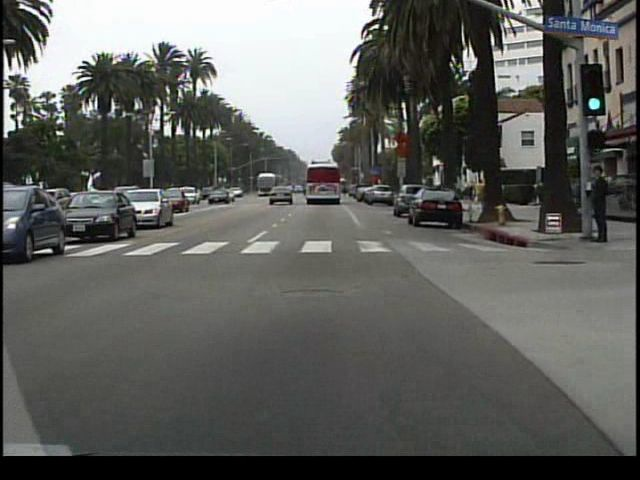person: (584, 158, 612, 246)
